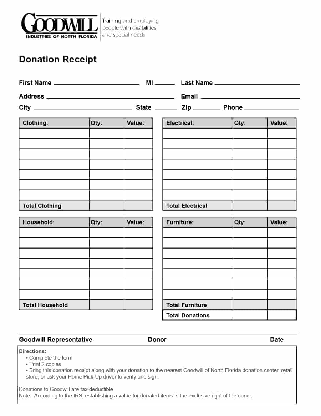textbox: (159, 235, 236, 252), (17, 145, 93, 162), (161, 145, 236, 162), (17, 155, 92, 172), (160, 166, 236, 182), (160, 177, 236, 193), (160, 224, 236, 240), (16, 176, 91, 192), (160, 276, 235, 292), (159, 187, 236, 202), (160, 257, 237, 272), (16, 167, 92, 182), (15, 187, 91, 202), (16, 235, 92, 250), (16, 287, 92, 302), (160, 287, 236, 302), (17, 136, 92, 151), (16, 246, 91, 261), (16, 256, 91, 271), (17, 267, 92, 282), (16, 277, 91, 292), (161, 137, 237, 151), (161, 246, 236, 260), (161, 267, 236, 281), (162, 126, 236, 140), (161, 157, 235, 171), (17, 226, 91, 240), (17, 127, 92, 140), (230, 135, 272, 153), (86, 145, 128, 163), (227, 245, 271, 262), (227, 255, 271, 272), (86, 255, 127, 272), (85, 235, 127, 251), (231, 276, 270, 293), (230, 235, 271, 251), (86, 245, 127, 261), (86, 286, 127, 302), (229, 286, 270, 302), (86, 166, 126, 182), (87, 187, 127, 203), (87, 297, 127, 313), (120, 186, 155, 204), (231, 266, 270, 282), (85, 157, 126, 172), (230, 225, 271, 240), (86, 277, 127, 292), (120, 235, 156, 252), (264, 265, 300, 282), (231, 126, 271, 141), (231, 146, 271, 161), (230, 157, 270, 172), (86, 225, 126, 240), (264, 145, 299, 162), (265, 296, 300, 313), (265, 244, 300, 261), (120, 255, 155, 272), (265, 285, 300, 302), (87, 126, 126, 141), (231, 167, 270, 182), (87, 177, 126, 192), (231, 177, 270, 192), (231, 307, 270, 322), (265, 197, 299, 214), (121, 296, 155, 313), (265, 234, 299, 251), (230, 298, 271, 312), (85, 267, 126, 281), (121, 176, 154, 193), (264, 135, 299, 151), (265, 177, 300, 193), (230, 198, 270, 212), (88, 137, 127, 151), (87, 198, 126, 212), (120, 146, 154, 162), (121, 166, 155, 182), (265, 166, 299, 182), (265, 187, 299, 203), (121, 276, 155, 292), (264, 225, 300, 240), (120, 287, 156, 302), (121, 136, 154, 152), (121, 156, 154, 172), (265, 306, 298, 322), (122, 245, 155, 261), (265, 277, 300, 292), (230, 189, 270, 202), (262, 157, 299, 171), (265, 126, 299, 141), (121, 198, 155, 213), (121, 225, 155, 240), (263, 257, 299, 271), (122, 126, 155, 141), (122, 268, 156, 282)
textline: (45, 90, 176, 101), (214, 72, 303, 87), (199, 89, 302, 100), (33, 100, 133, 111), (52, 75, 141, 86), (245, 100, 302, 111), (192, 101, 222, 111), (154, 75, 176, 87), (154, 101, 178, 111)
